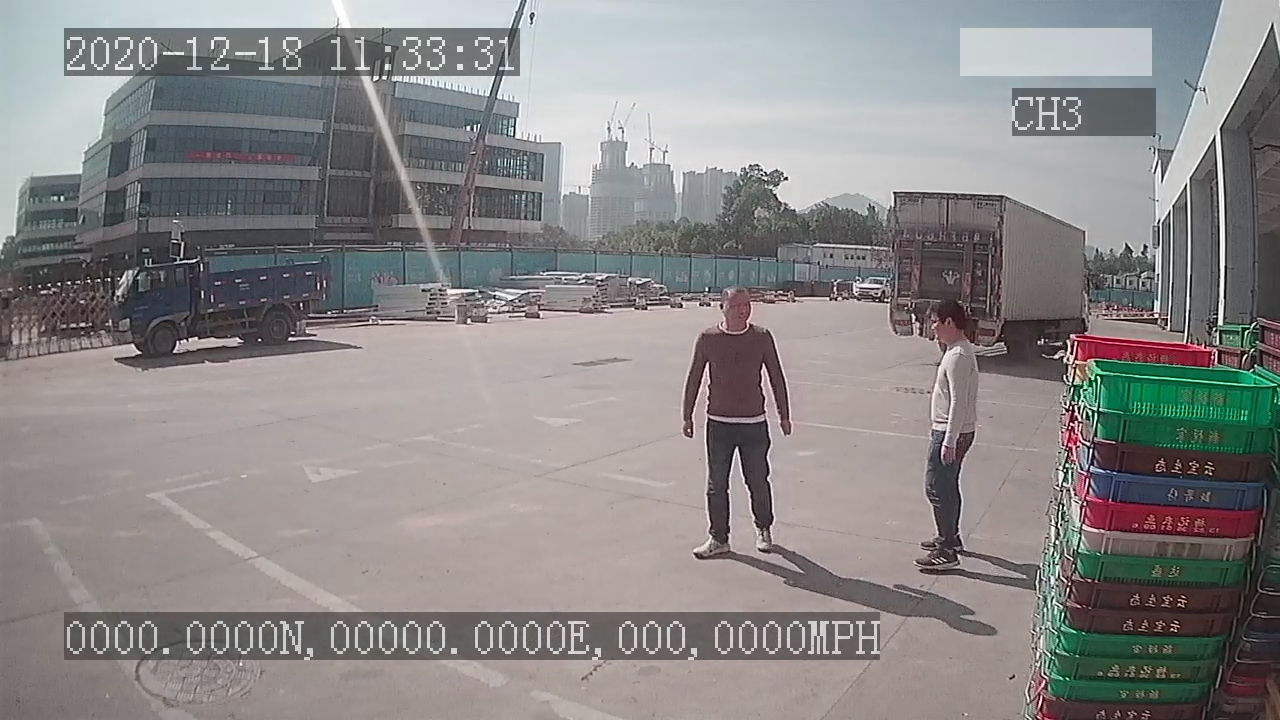person: (683, 280, 791, 560)
